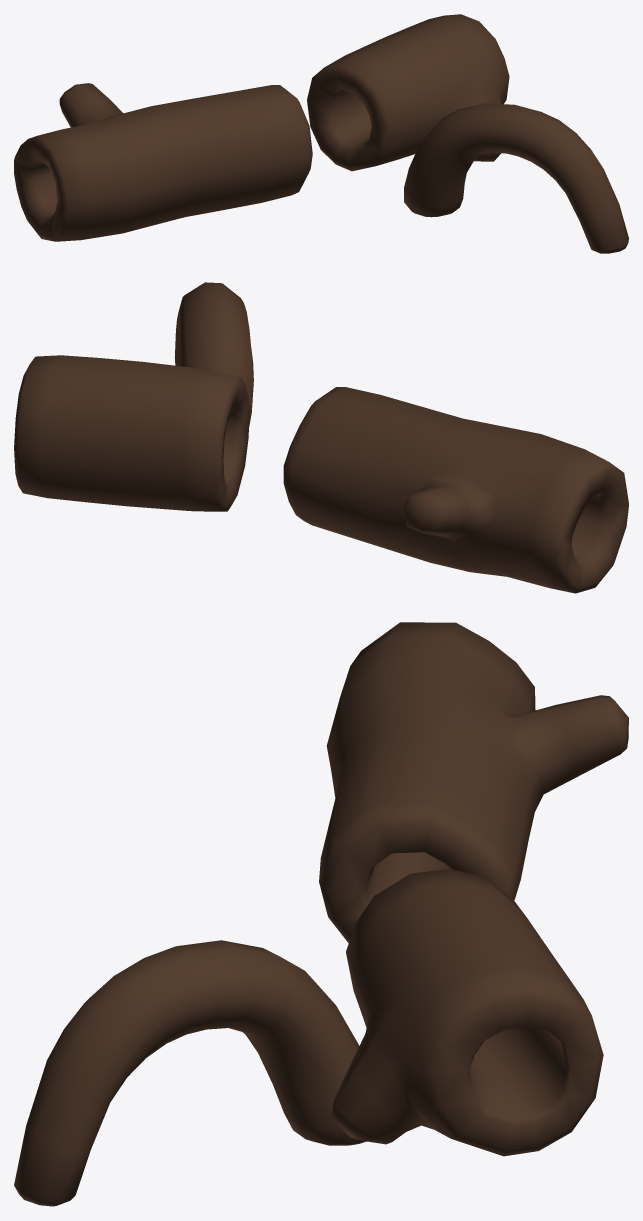
Rendered from shuzhuang02.fbx.
3 renders of one model, top to bottom at view 1: azimuth 30°, elevation 25°; view 2: azimuth 150°, elevation 25°; view 3: azimuth 270°, elevation 25°, orthographic. The views are drawn at different scales.
Parts seen in each view (by area): view 1: Log_02_LOD1_Mat_Nature_0.001, Log_03_LOD1_Mat_Nature_0, Root_01_LOD1_Mat_Nature_0; view 2: Log_02_LOD1_Mat_Nature_0.001, Log_03_LOD1_Mat_Nature_0, Root_01_LOD1_Mat_Nature_0; view 3: Log_03_LOD1_Mat_Nature_0, Log_02_LOD1_Mat_Nature_0.001, Root_01_LOD1_Mat_Nature_0.
Boxes of the visible parts, x1,y1,x2,y2 form: Log_02_LOD1_Mat_Nature_0.001: [14, 83, 312, 241]; Log_03_LOD1_Mat_Nature_0: [307, 14, 509, 171]; Root_01_LOD1_Mat_Nature_0: [404, 103, 628, 253]; Log_02_LOD1_Mat_Nature_0.001: [283, 387, 628, 593]; Log_03_LOD1_Mat_Nature_0: [14, 355, 249, 511]; Root_01_LOD1_Mat_Nature_0: [174, 282, 253, 426]; Log_03_LOD1_Mat_Nature_0: [331, 869, 603, 1156]; Log_02_LOD1_Mat_Nature_0.001: [319, 622, 628, 943]; Root_01_LOD1_Mat_Nature_0: [14, 940, 366, 1206].
Size of the model in its own units: 2.63 by 0.7376 by 1.81.
